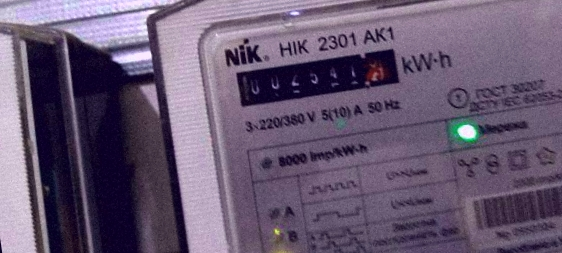0: (245, 73, 261, 95), (266, 68, 281, 90)
1: (344, 58, 358, 79)
2: (286, 66, 301, 88)
4: (325, 59, 340, 82)
5: (305, 62, 320, 86)
6: (368, 66, 381, 83)
screen: (224, 37, 411, 116)
